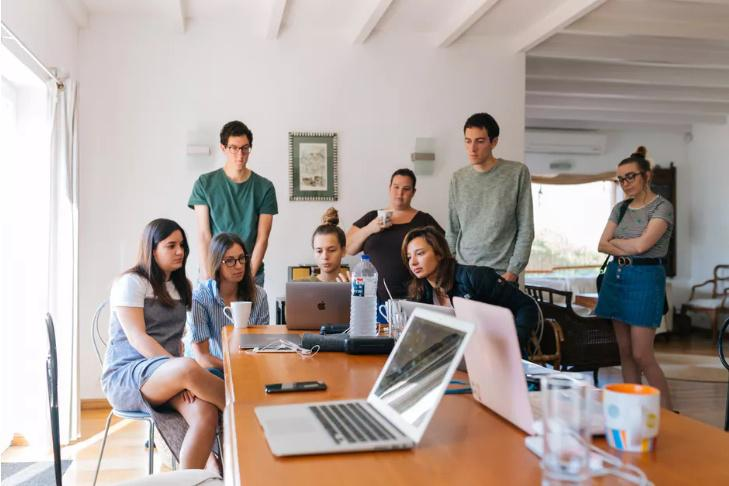face: (407, 236, 434, 278), (314, 233, 341, 273), (158, 230, 185, 269), (220, 243, 246, 282), (465, 127, 490, 165), (227, 136, 250, 170), (390, 175, 413, 206)
